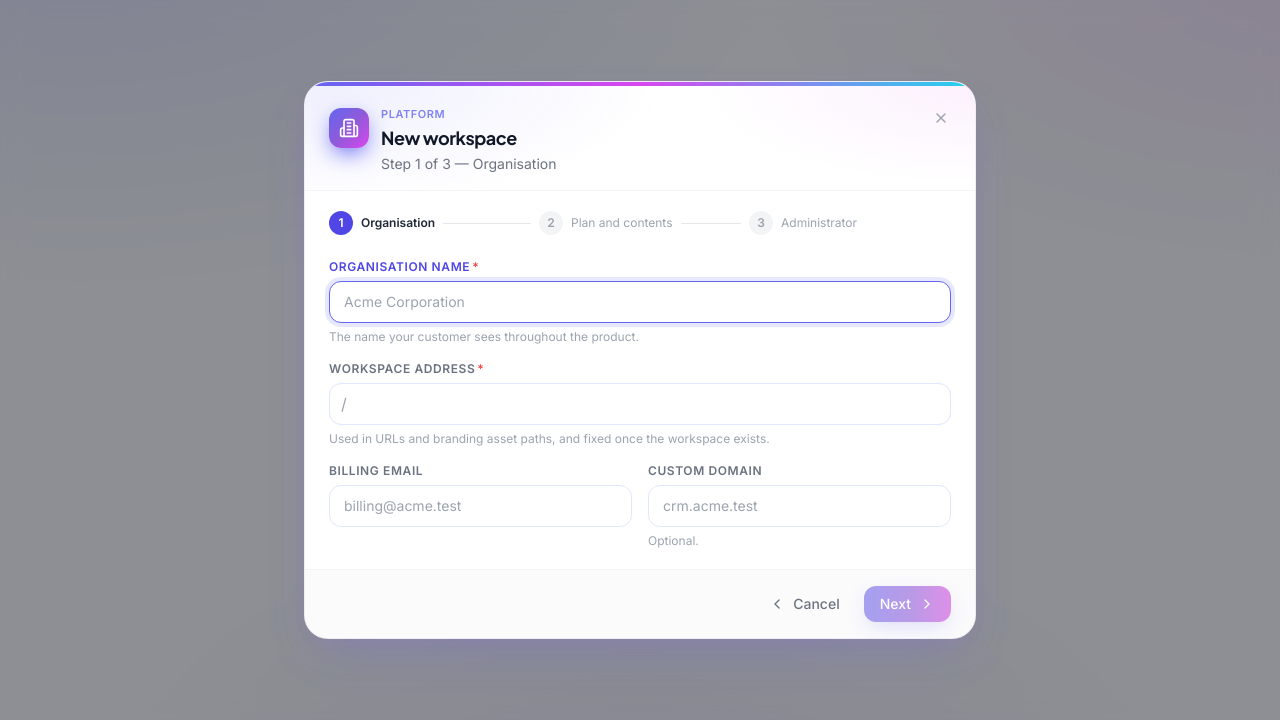
TenantOnboardWizard › offers the server suggestion when the address is taken
Type "Taken Co" into the field labelled "Organisation name*" at {"x": 640, "y": 302}, box [329,281,951,323]
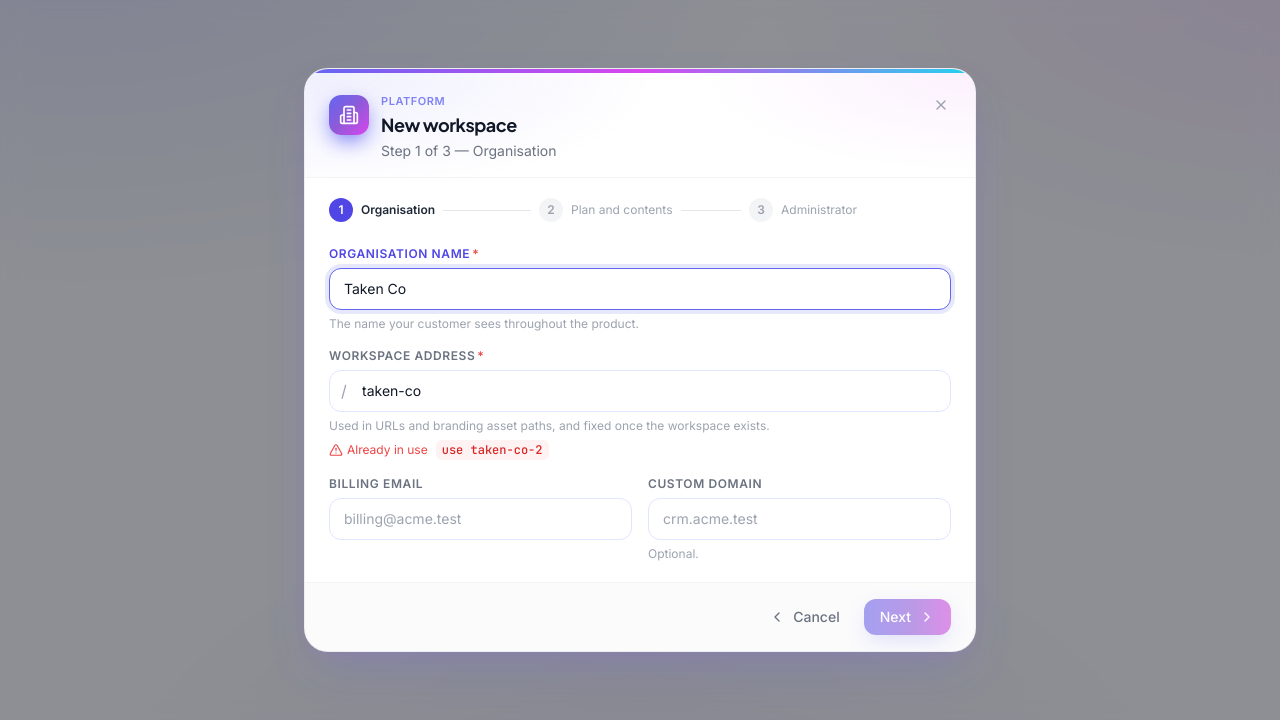
Expected: the button "Next" is disabled, [864,599,951,635]
Result: the text "Already in use use taken-co-2" is shown at [329,440,548,460]
Click the button "use taken-co-2" at {"x": 492, "y": 450}, box [436,440,548,460]
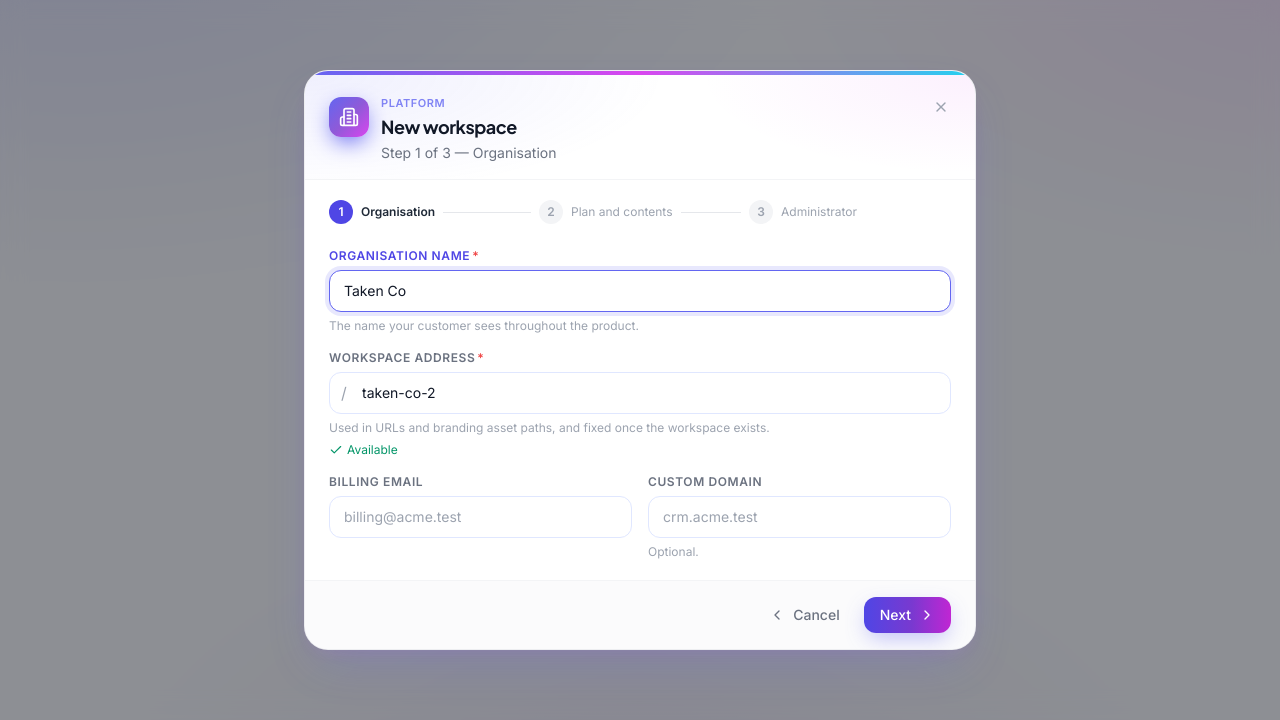
Result: the field labelled "Workspace address*" holds "taken-co-2" at [329,372,951,414]
Result: the button "Next" is enabled at [864,597,951,633]
